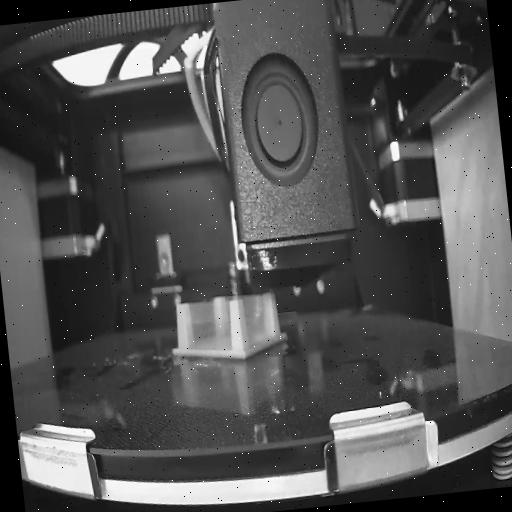stringing: (180, 294, 236, 360), (245, 291, 275, 345)
